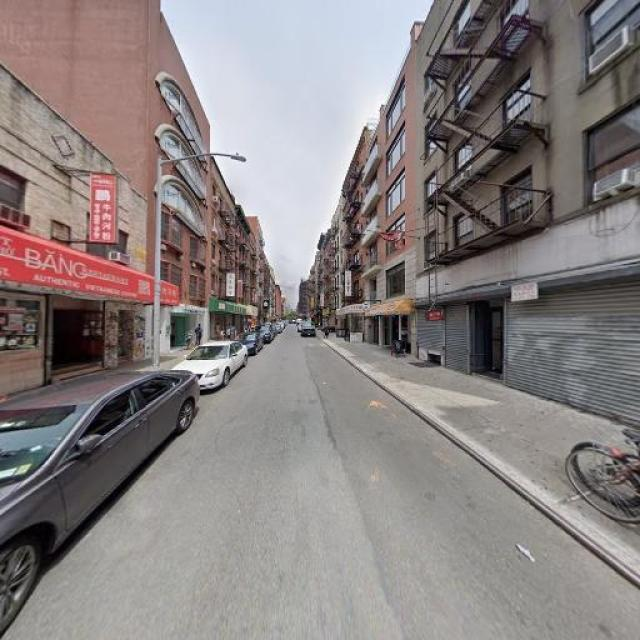Building: (419, 1, 640, 417), (1, 85, 145, 390), (149, 1, 208, 354)
